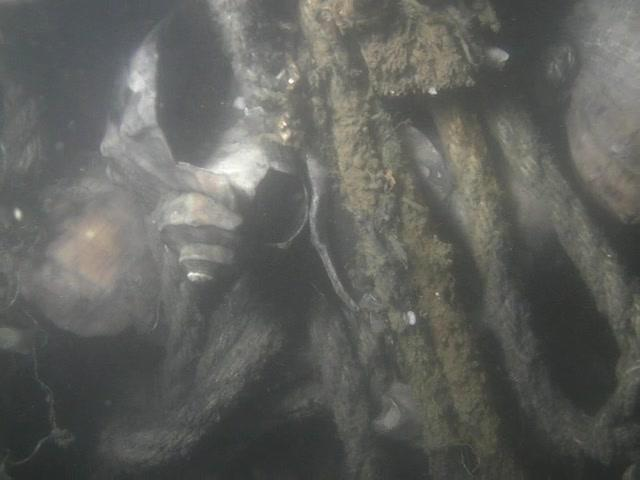bundle of ropes: (103, 0, 640, 480)
